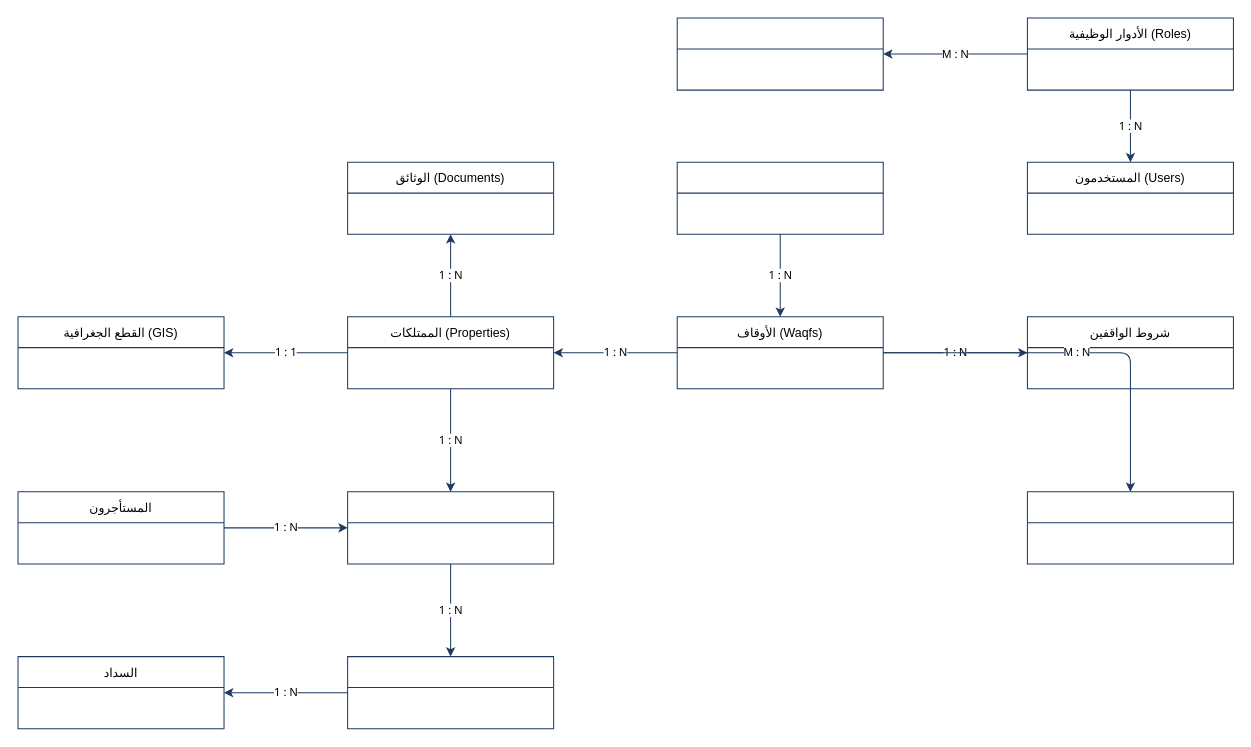
This 1251x747 diagram has some shape labels left out. The centre of each missing label's shape, as x and y in pixels:
الصلاحيات (Permissions): pixel 779 53
الفواتير: pixel 450 692
المستفيدون: pixel 1129 527
الواقفون (Waqifs): pixel 779 197
عقود الإيجار: pixel 450 527
